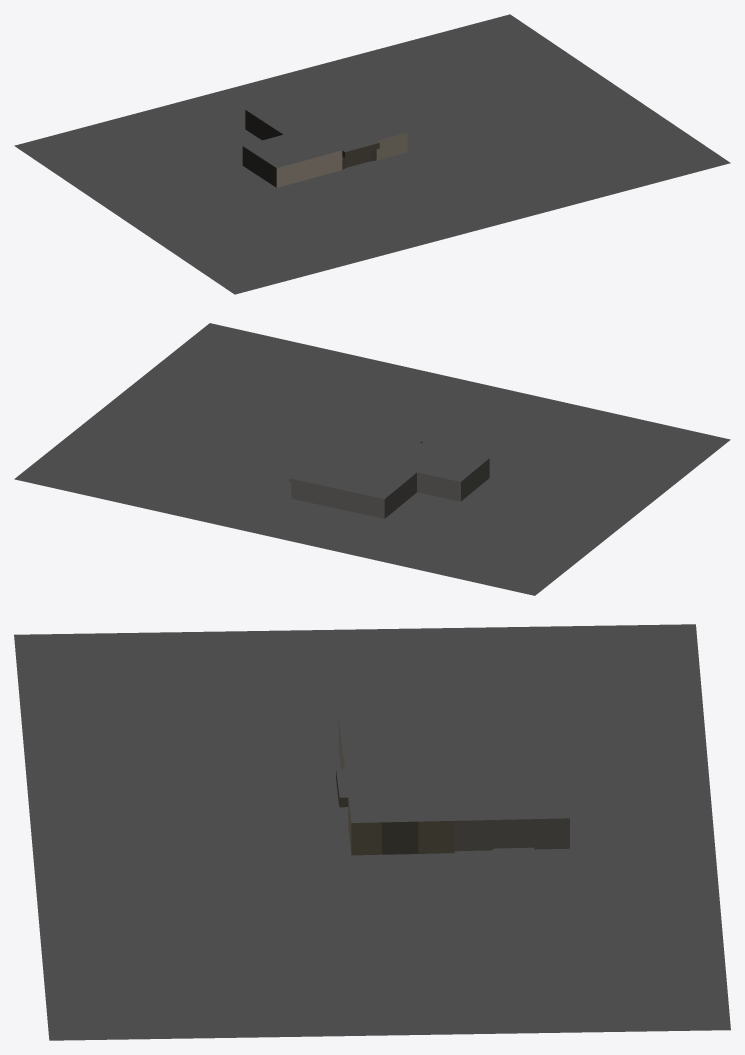
The model's file is chattanooga-ducks.glb.
3 renders of one model, top to bottom at view 1: azimuth 30°, elevation 25°; view 2: azimuth 150°, elevation 25°; view 3: azimuth 270°, elevation 25°, orthographic. The views are drawn at different scales.
Visible parts, largest first — view 1: LOD0; view 2: LOD0; view 3: LOD0.
Part boxes in pixels (box(x1,y1,x2,y2)): LOD0: box(14, 14, 730, 294); LOD0: box(14, 323, 730, 595); LOD0: box(14, 624, 730, 1040).
Size of what is drawn, in the model's own units: 139 by 5.04 by 101.
Materials: 1 (1 with a texture image).
